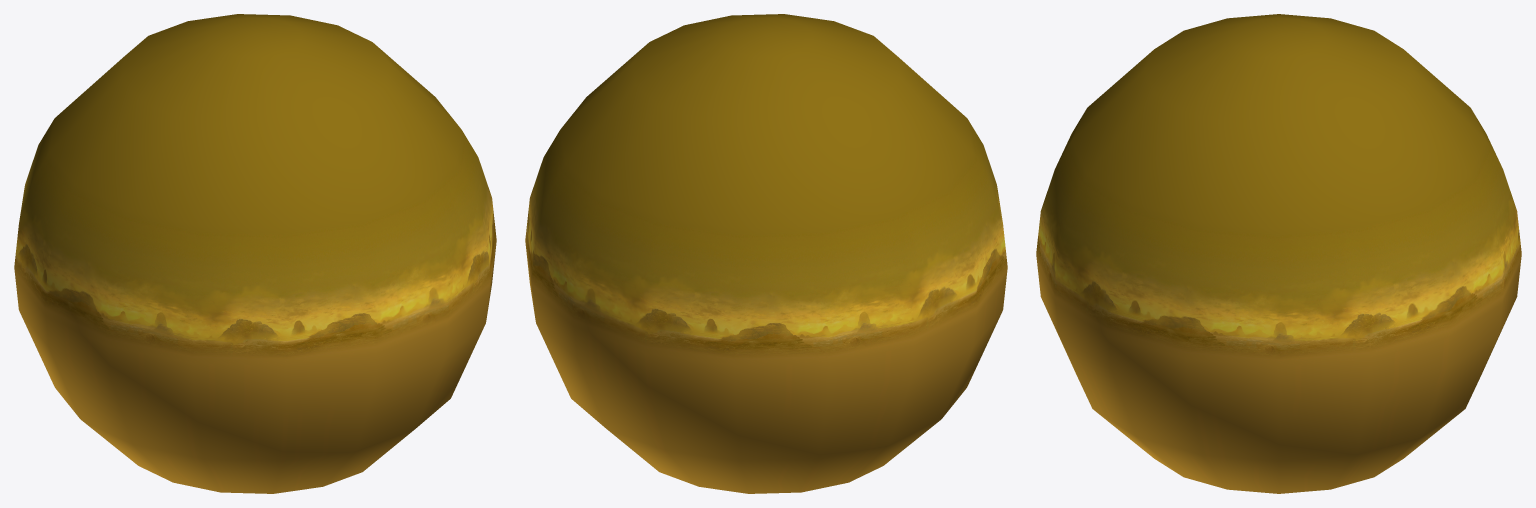
The model's file is sky.glb.
The picture shows the model from 3 angles, left to right: view 1: azimuth 30°, elevation 25°; view 2: azimuth 150°, elevation 25°; view 3: azimuth 270°, elevation 25°; orthographic projection.
Parts seen in each view (by area): view 1: hut_skyscene01; view 2: hut_skyscene01; view 3: hut_skyscene01.
Part boxes in pixels (bbox=[...]): hut_skyscene01: bbox=[14, 14, 496, 493]; hut_skyscene01: bbox=[525, 14, 1007, 493]; hut_skyscene01: bbox=[1036, 14, 1521, 493].
Bounding box in the file's own units: 74.94 × 74.94 × 74.94.
Materials: 2 (2 with a texture image).
